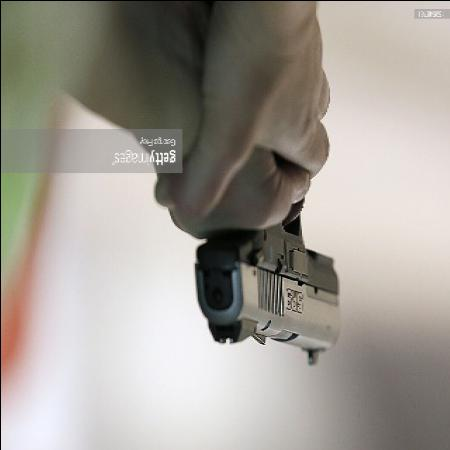Pistol: (193, 216, 348, 372)
